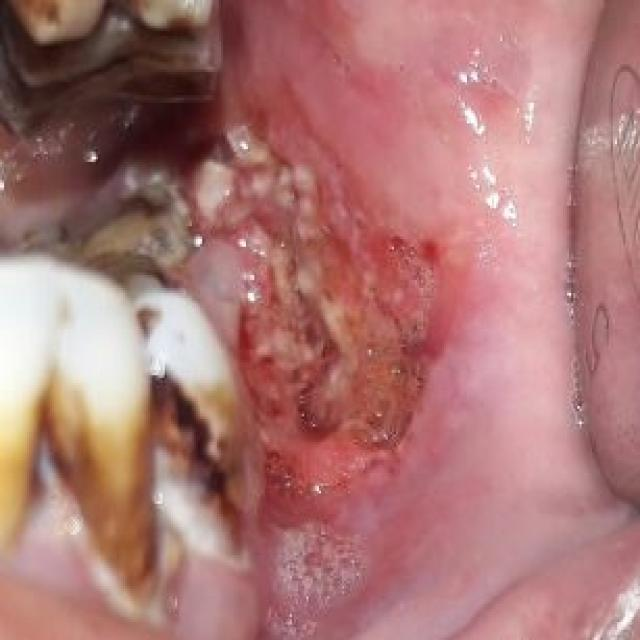cancer-detection: (184, 70, 479, 506)
processing_area: (0, 0, 638, 637)
